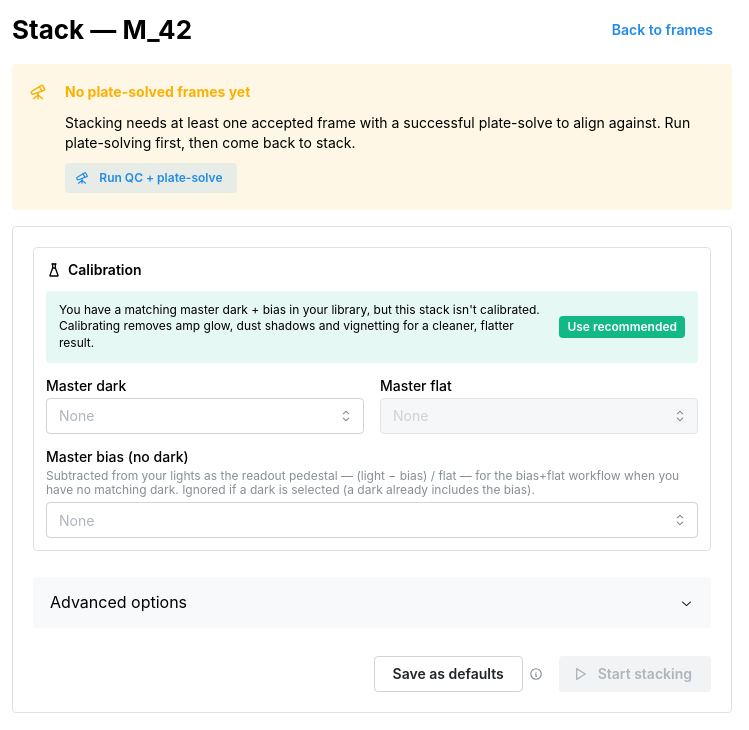
Test case: StackView › recommends the masters a walk-away stack would have used
The width and height of the screenshot is (749, 730).
Click the button "Use recommended" at x=622, y=327, box [559,316,685,338]
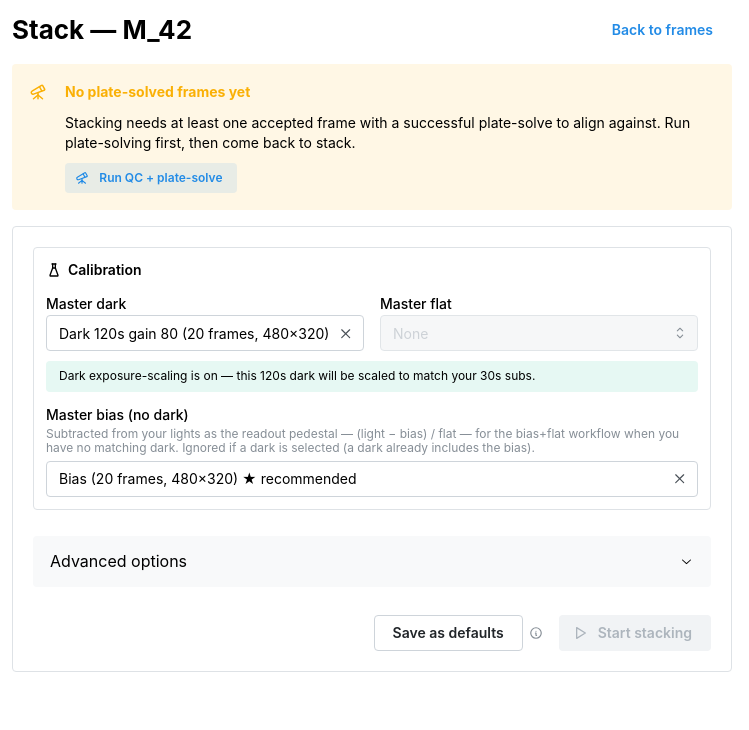
Check: the text "Dark exposure-scaling is on" is shown, box [59,368,535,383]
Check: the button "Use recommended" is gone
